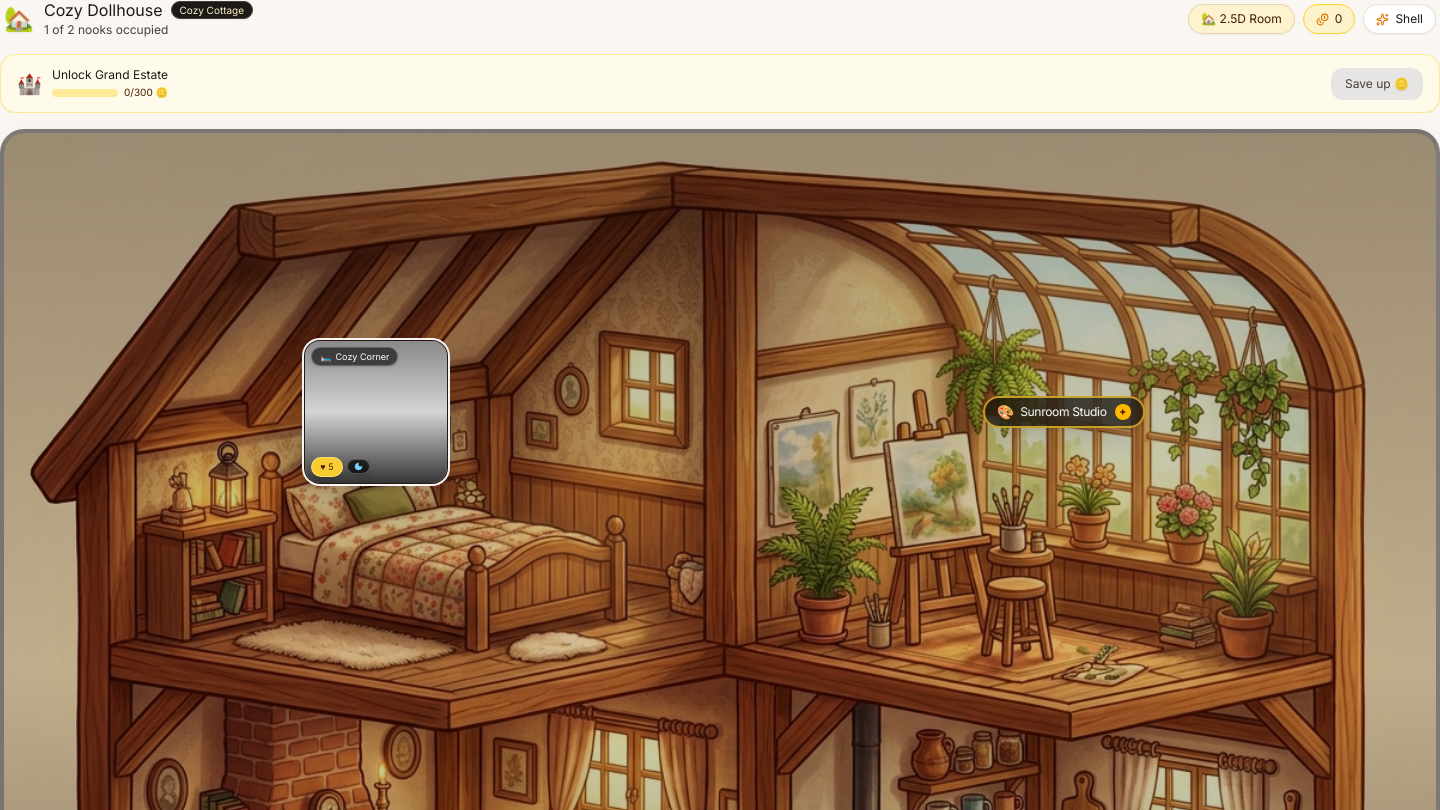
Test: ProfileShell Assign Space Modal › renders "Create a New Space" button linking to /camera when all spaces are assigned
Click the button titled "Snap a space to Sunroom Studio" at {"x": 1064, "y": 412}, box top-left (983, 396), bottom-right (1145, 428)
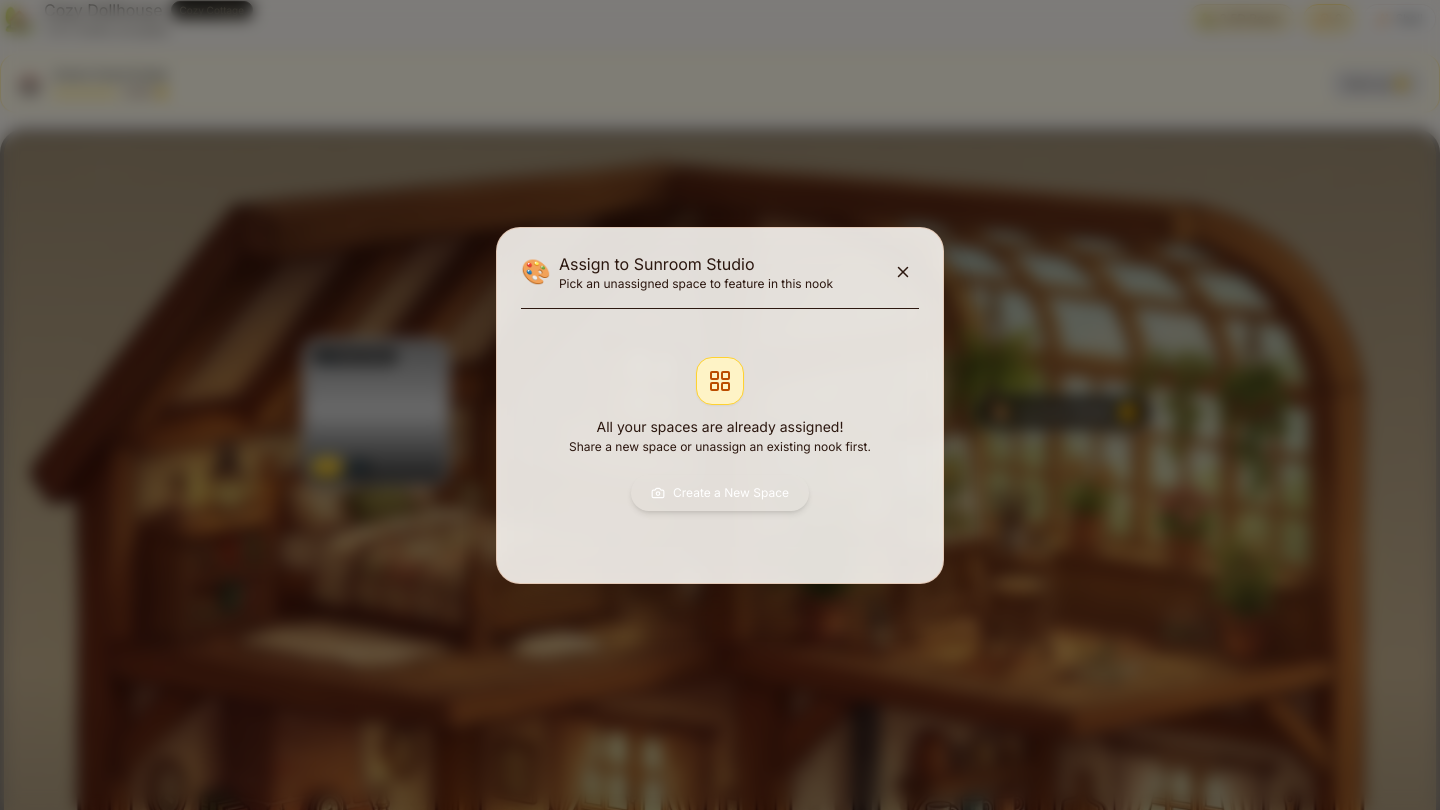
Check: the text "All your spaces are already assigned!" is shown, box top-left (597, 418), bottom-right (844, 434)
Check: the link "Create a New Space" is shown, box top-left (631, 474), bottom-right (809, 510)
